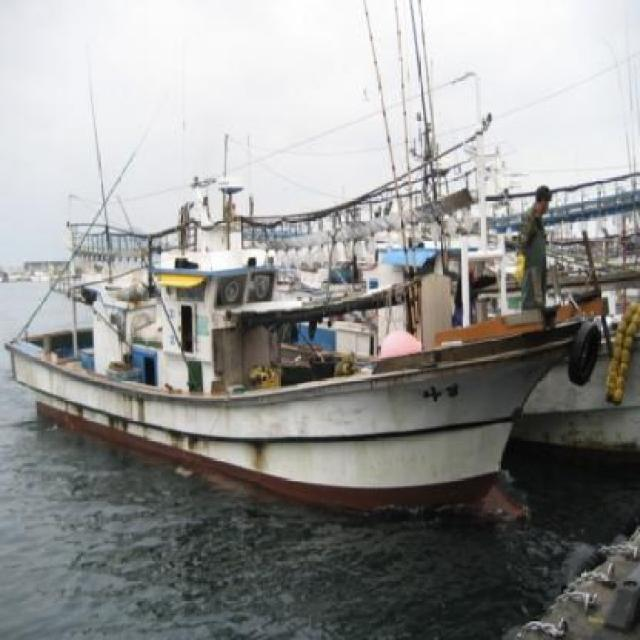Ship: (42, 197, 586, 523), (207, 175, 640, 466)
